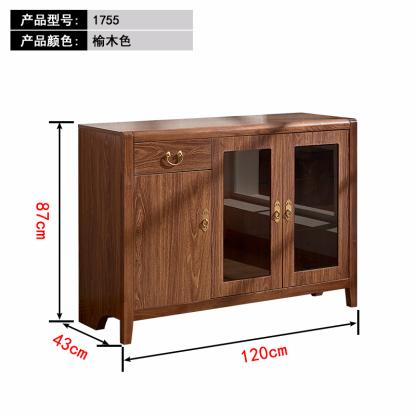Cupboard: (77, 113, 358, 347)
